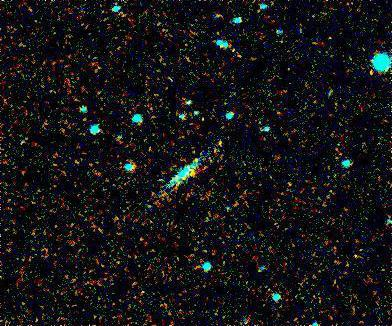star: (177, 160, 207, 190)
